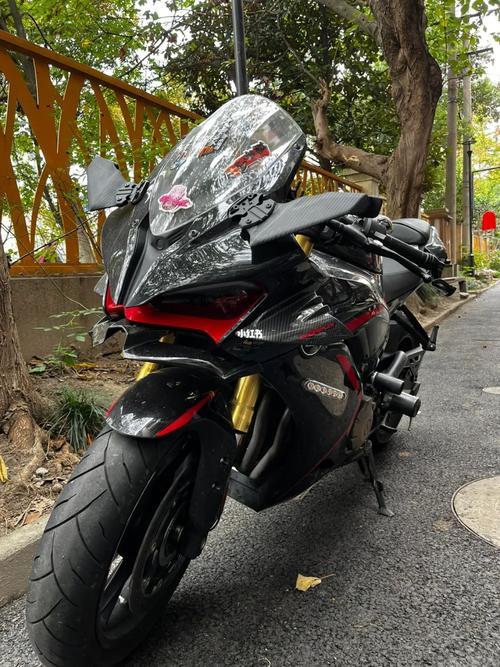摩托车: (21, 81, 460, 664)
